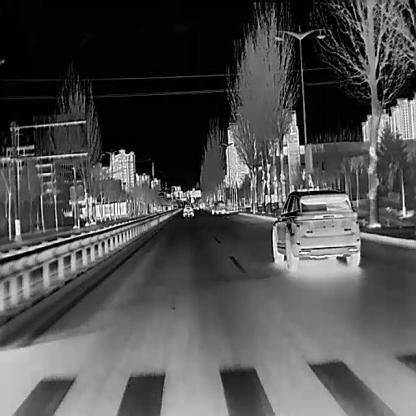car: (271, 186, 361, 270), (211, 200, 225, 214), (182, 203, 192, 216)
